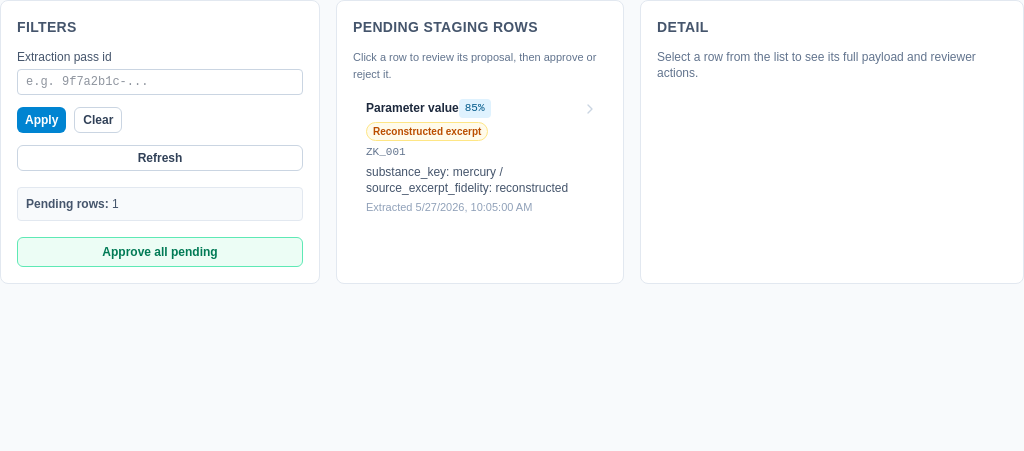
Test: CatalogStagingReview › shows the fidelity badge in the detail panel for the selected row
Click the button with test id "staging-row-staging-D": x=480, y=157 [353, 90, 607, 223]
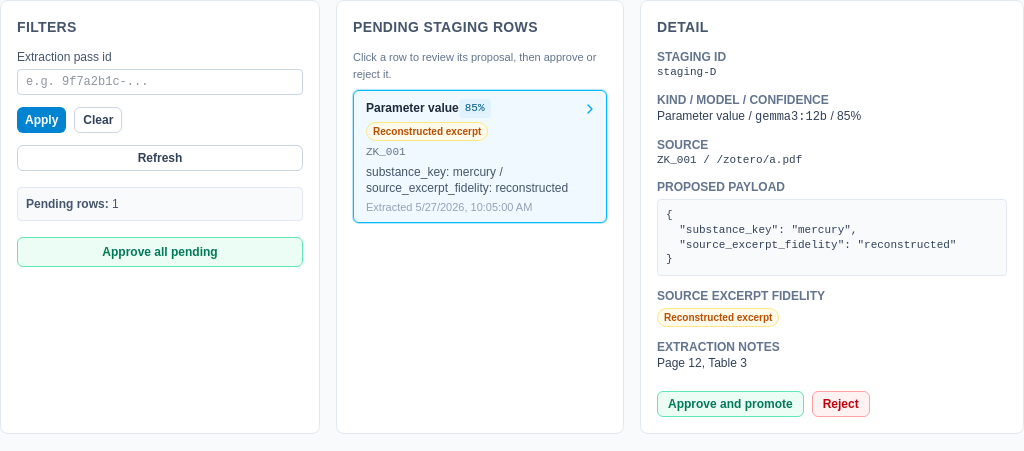
Check: the text with test id "staging-detail-fidelity-badge" reads "Reconstructed excerpt", box [664, 312, 772, 323]
